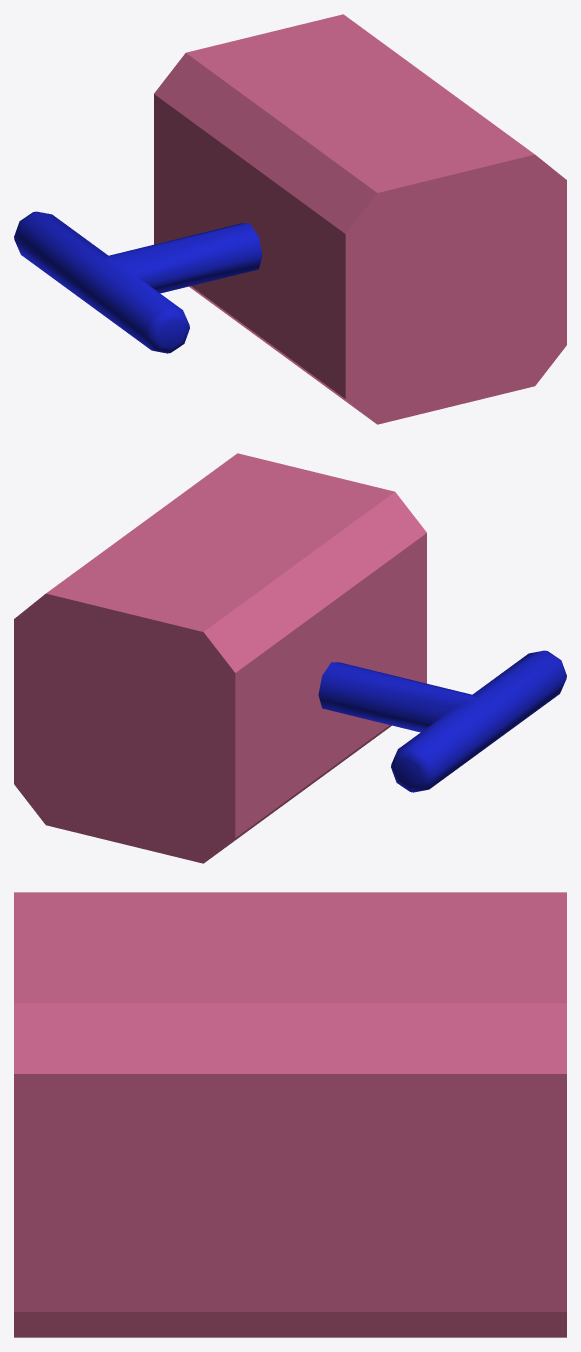
File: Small_Valve_UV.fbx
3 views of the same model, one above another, from view 1: azimuth 30°, elevation 25°; view 2: azimuth 150°, elevation 25°; view 3: azimuth 270°, elevation 25° (orthographic). The views are drawn at different scales.
Visible parts, largest first — view 1: SM_Body, SM_Valve; view 2: SM_Body, SM_Valve; view 3: SM_Body.
Part boxes in pixels (left/top/right/bottom): SM_Body: left=154, top=14, right=566, bottom=424; SM_Valve: left=14, top=211, right=262, bottom=353; SM_Body: left=14, top=453, right=426, bottom=863; SM_Valve: left=318, top=650, right=566, bottom=792; SM_Body: left=14, top=892, right=566, bottom=1337.
Bounding box in the file's own units: 3.53 × 2 × 3.
